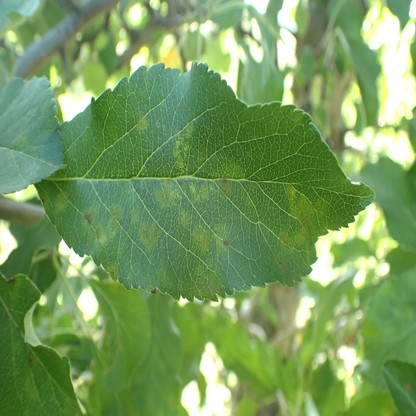scab: (288, 182, 318, 260), (173, 123, 194, 171), (26, 352, 41, 399), (107, 202, 123, 241), (154, 178, 173, 209), (140, 224, 160, 253), (216, 222, 230, 253), (189, 182, 208, 203), (193, 226, 208, 249), (278, 231, 293, 252), (81, 205, 95, 226), (55, 191, 68, 212), (93, 224, 106, 244), (181, 210, 194, 230), (4, 275, 21, 290), (219, 176, 229, 198), (108, 259, 118, 280), (129, 209, 139, 226), (275, 252, 285, 267), (137, 118, 148, 131), (42, 191, 49, 208)
